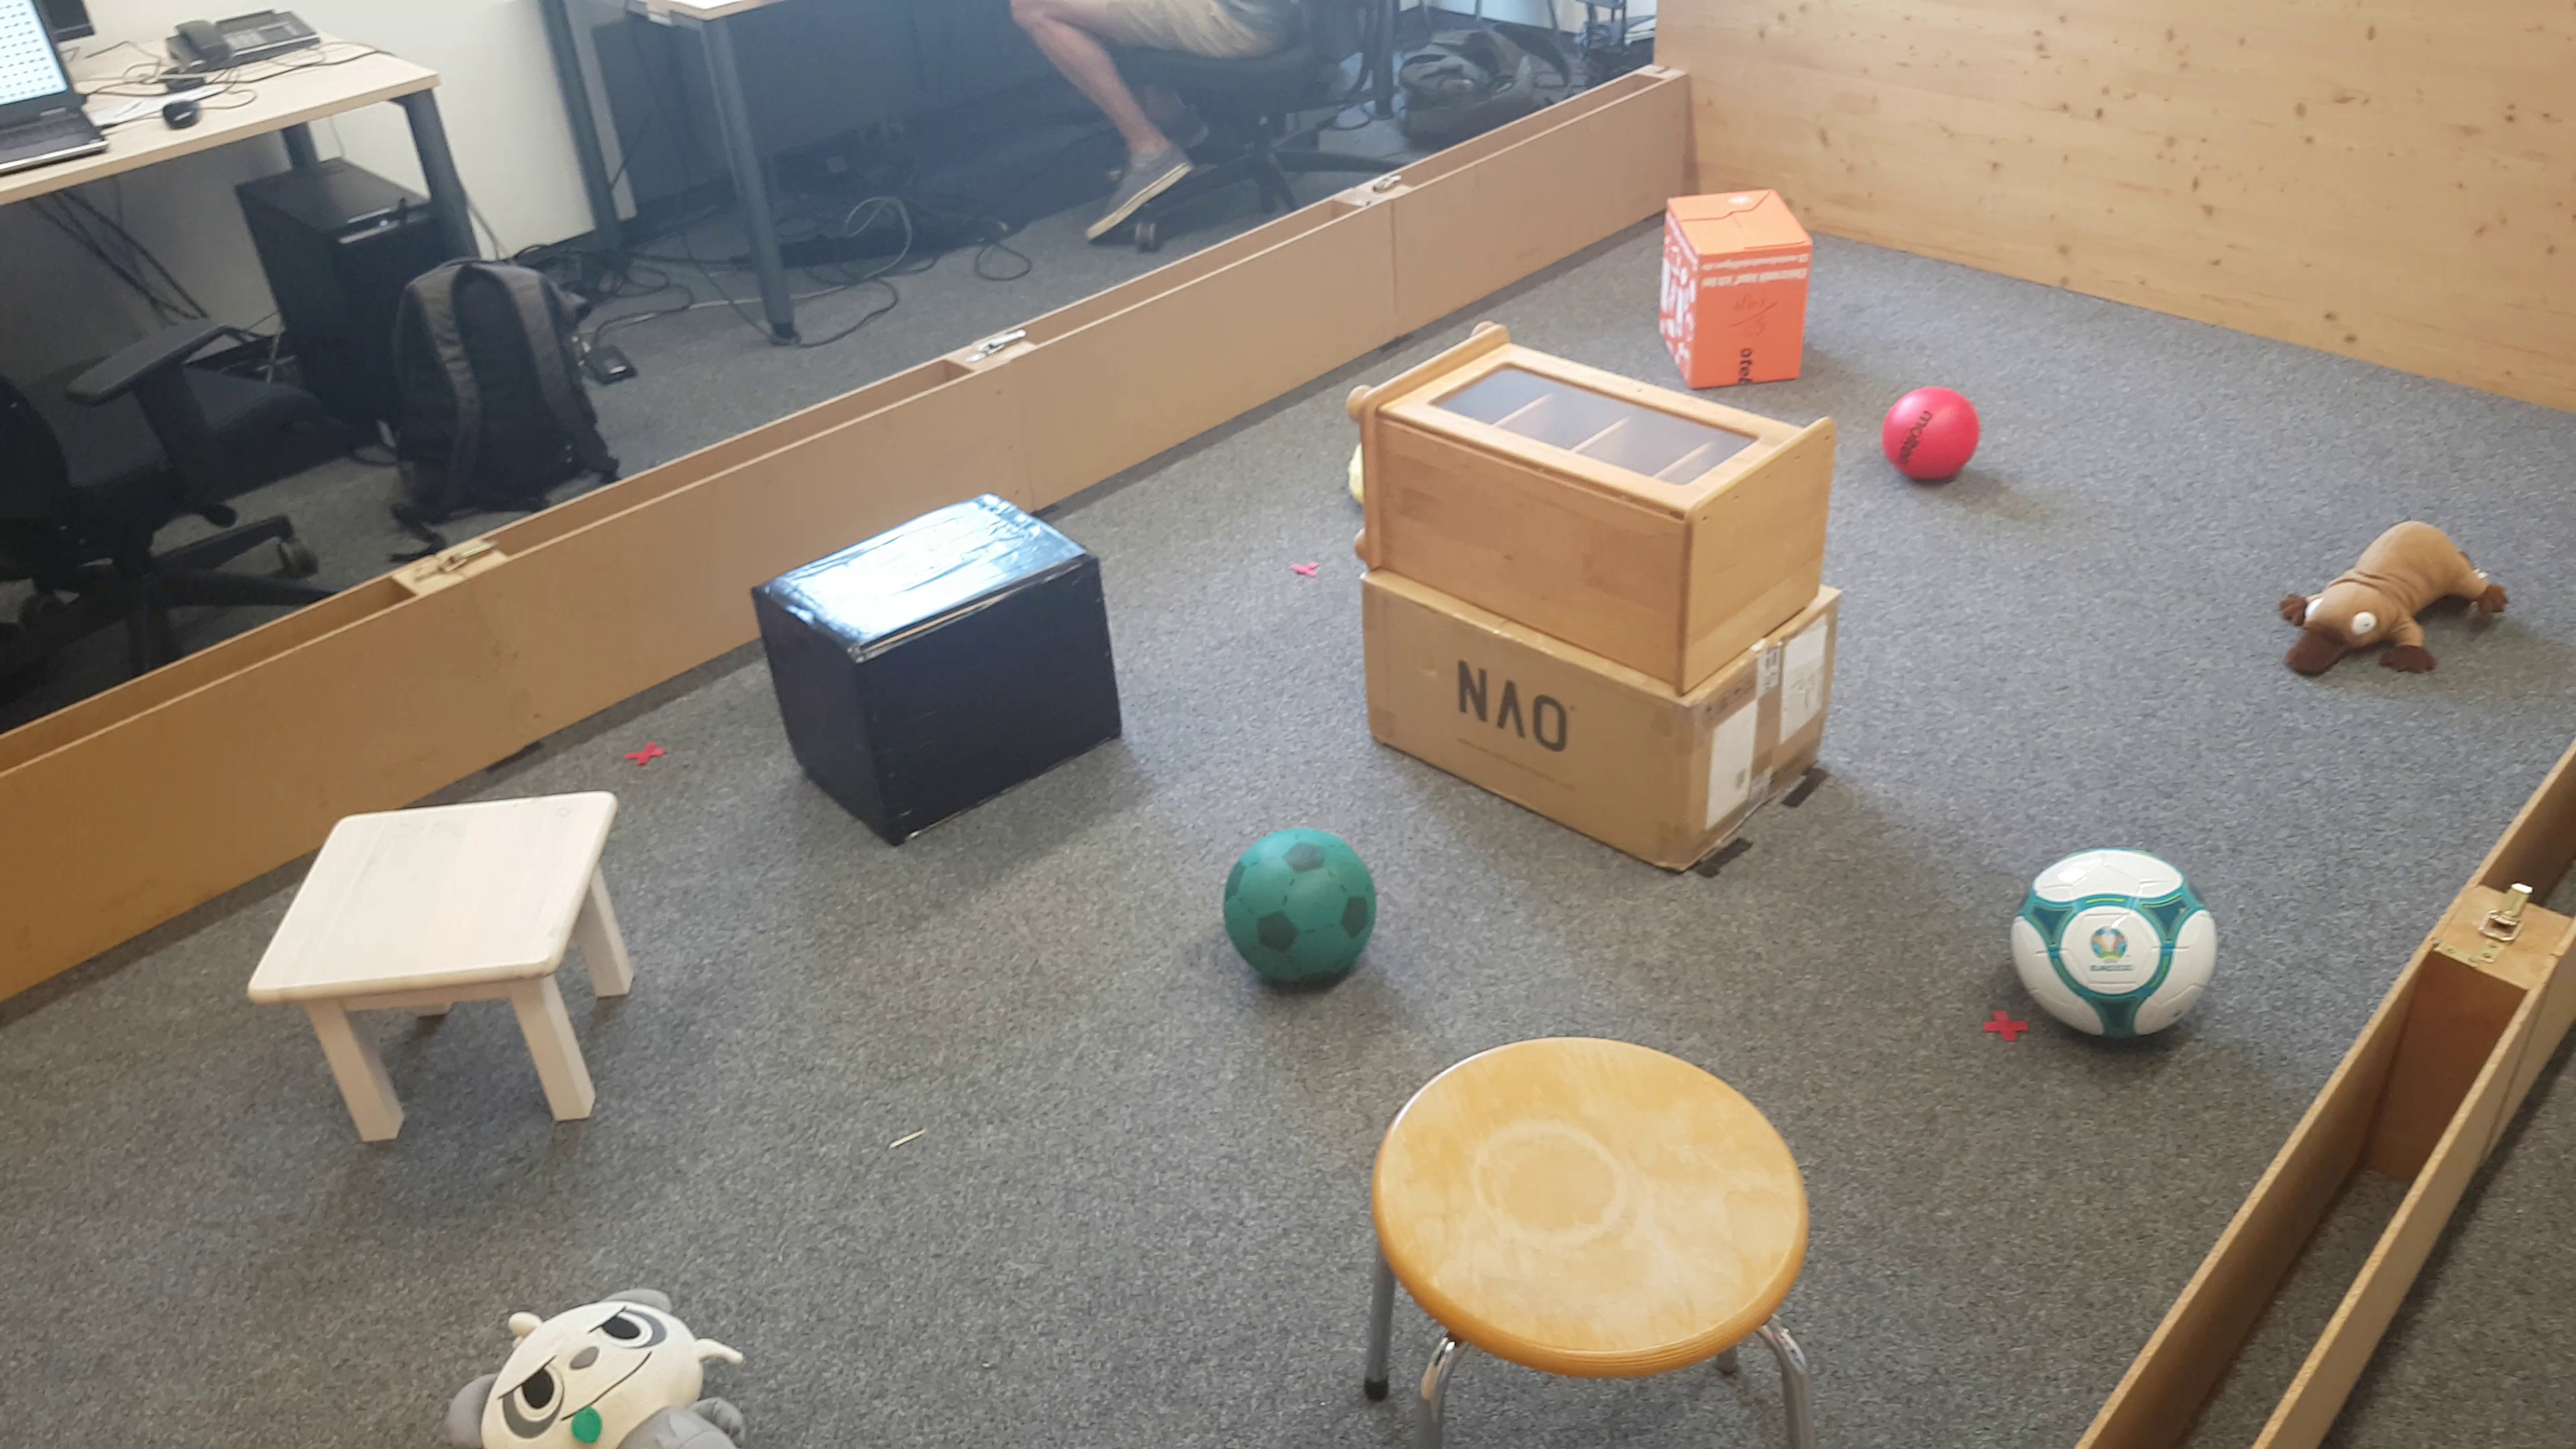grasp: (448, 1284, 752, 1449), (2273, 522, 2512, 685)
kick: (2006, 851, 2217, 1058), (1226, 828, 1378, 1001), (1886, 380, 1978, 490)
push: (752, 492, 1125, 830), (1654, 189, 1808, 389)
